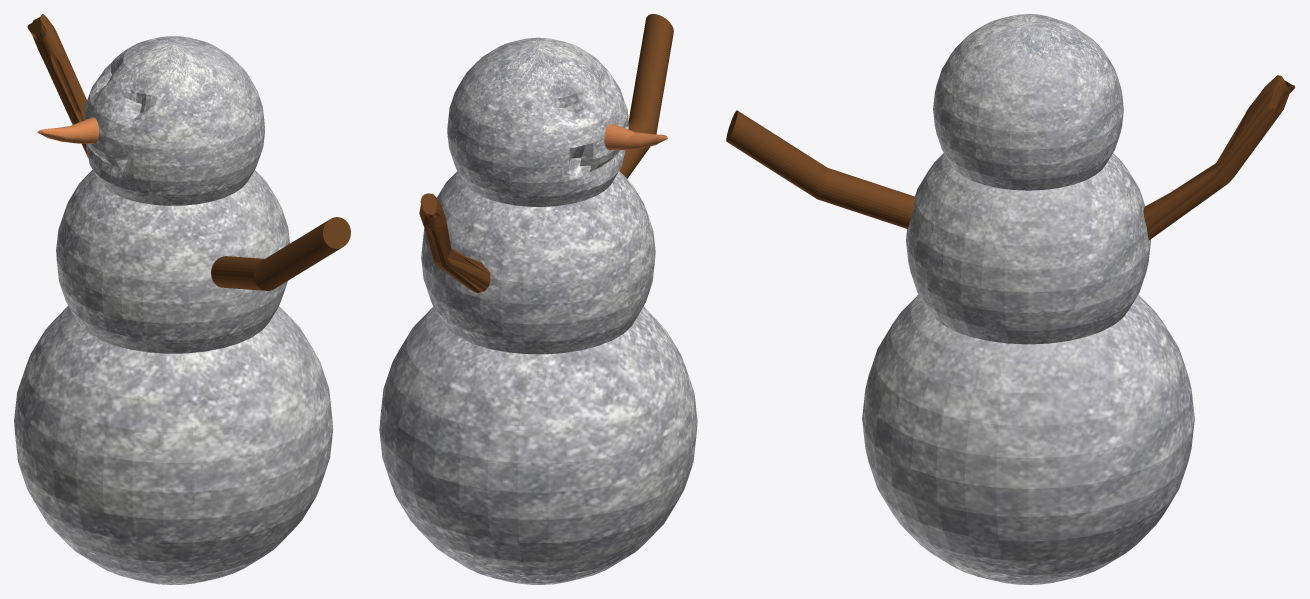
File: snowman-model.gltf
3 renders of one model, left to right at view 1: azimuth 30°, elevation 25°; view 2: azimuth 150°, elevation 25°; view 3: azimuth 270°, elevation 25°, orthographic. The views are drawn at different scales.
Parts seen in each view (by area): view 1: Cuerpo-abajo, Cuerpo-pecho, Cabeza, Brazo izquierdo, Brazo derecho, Nariz; view 2: Cuerpo-abajo, Cuerpo-pecho, Cabeza, Brazo izquierdo, Brazo derecho, Nariz; view 3: Cuerpo-abajo, Cuerpo-pecho, Cabeza, Brazo izquierdo, Brazo derecho.
Boxes of the visible parts, x1=… form: Cuerpo-abajo: x1=14, y1=306, x2=333, y2=584; Cuerpo-pecho: x1=56, y1=170, x2=289, y2=353; Cabeza: x1=84, y1=36, x2=264, y2=205; Brazo izquierdo: x1=211, y1=217, x2=350, y2=290; Brazo derecho: x1=27, y1=14, x2=88, y2=157; Nariz: x1=37, y1=117, x2=98, y2=143; Cuerpo-abajo: x1=379, y1=306, x2=697, y2=584; Cuerpo-pecho: x1=421, y1=171, x2=655, y2=354; Cabeza: x1=447, y1=37, x2=628, y2=206; Brazo izquierdo: x1=619, y1=14, x2=673, y2=178; Brazo derecho: x1=419, y1=193, x2=490, y2=292; Nariz: x1=604, y1=124, x2=667, y2=150; Cuerpo-abajo: x1=862, y1=294, x2=1194, y2=584; Cuerpo-pecho: x1=906, y1=153, x2=1150, y2=344; Cabeza: x1=933, y1=14, x2=1123, y2=190; Brazo izquierdo: x1=726, y1=110, x2=915, y2=228; Brazo derecho: x1=1143, y1=75, x2=1295, y2=239.
Bounding box in the file's own units: 2.94 × 5.33 × 5.03.
Materials: 3 (1 with a texture image).
